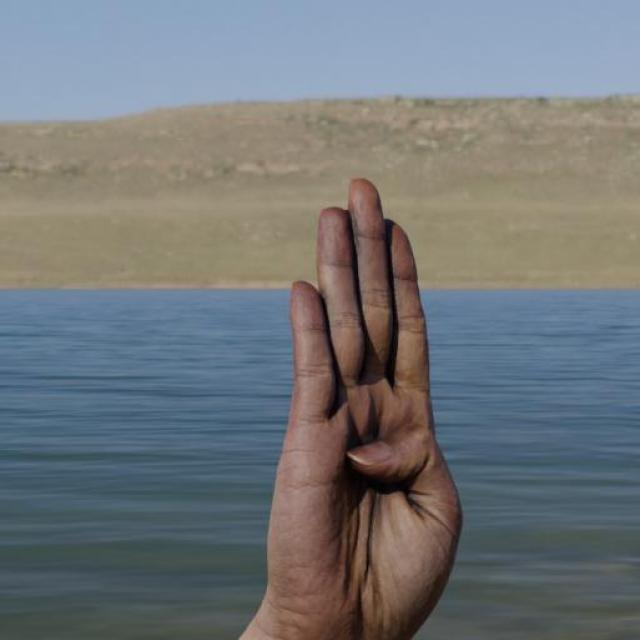B: (242, 173, 465, 622)
